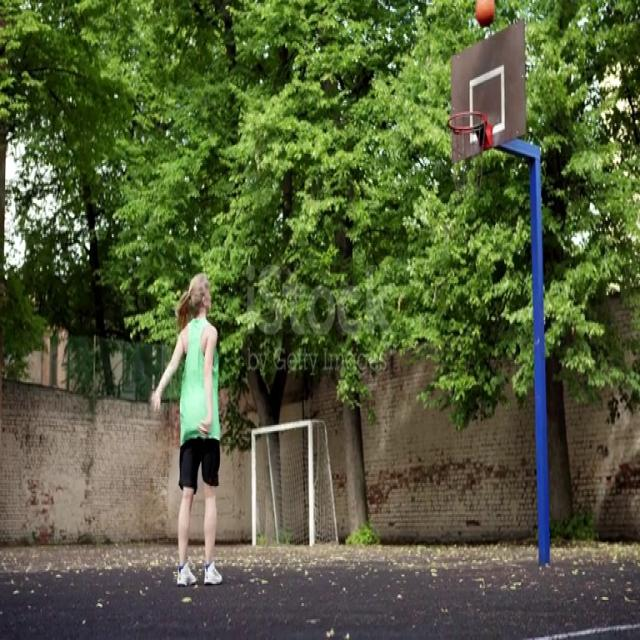ball: (475, 0, 495, 27)
